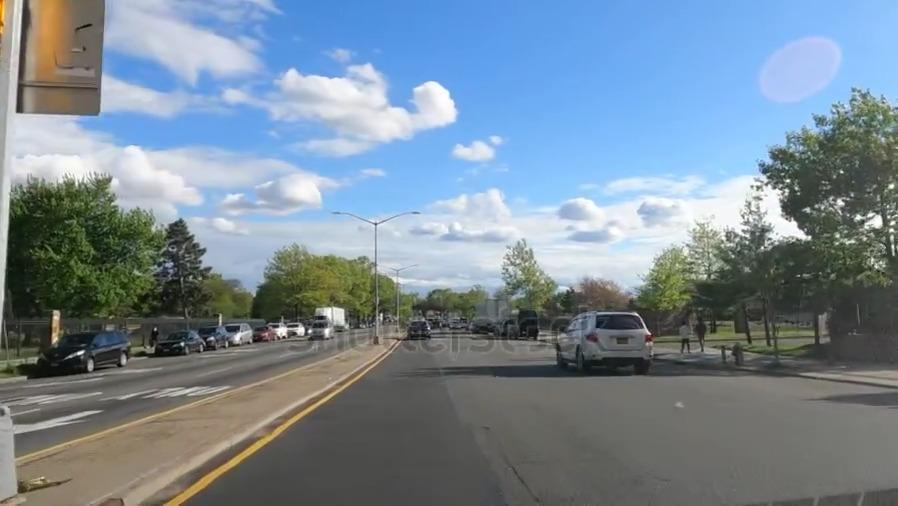car: (554, 316, 658, 371), (35, 333, 136, 374), (161, 326, 202, 357), (200, 328, 227, 350), (226, 324, 251, 345), (407, 319, 432, 339), (309, 322, 332, 341), (253, 327, 273, 342), (269, 323, 287, 339), (288, 323, 303, 337)
person: (674, 319, 691, 353), (695, 315, 709, 351), (148, 321, 159, 344)
truck: (316, 306, 347, 331)
